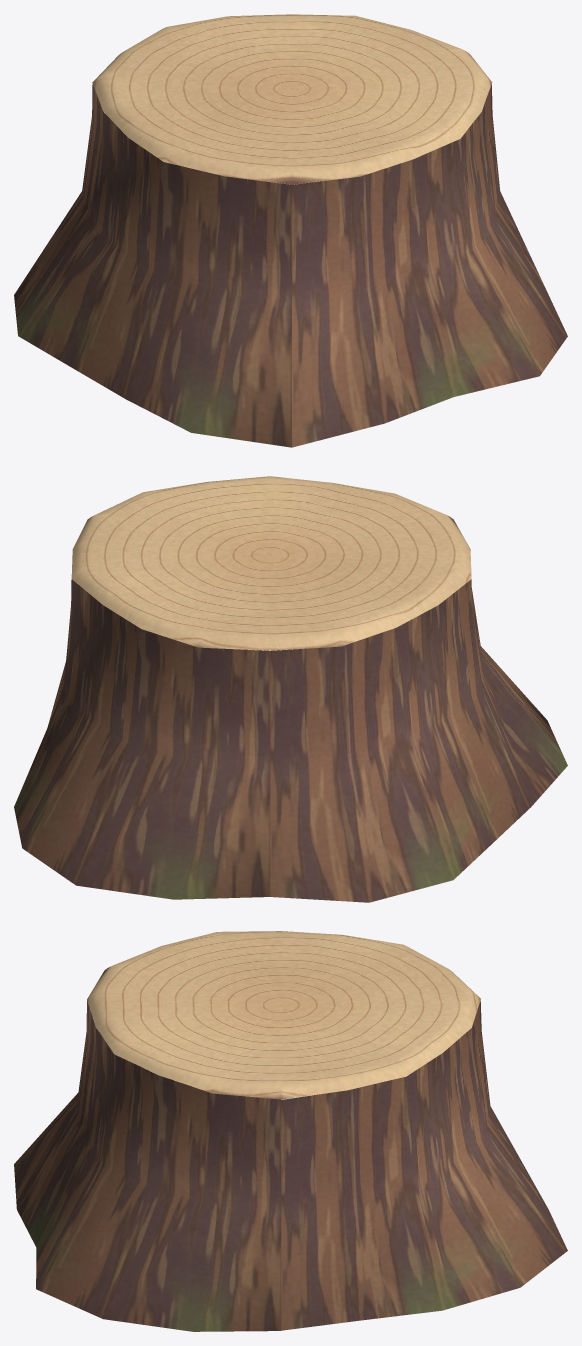
The model's file is stump_lod.gltf.
3 renders of one model, top to bottom at view 1: azimuth 30°, elevation 25°; view 2: azimuth 150°, elevation 25°; view 3: azimuth 270°, elevation 25°, orthographic. The views are drawn at different scales.
Parts seen in each view (by area): view 1: stump_mesh; view 2: stump_mesh; view 3: stump_mesh.
Boxes of the visible parts, left/top/right/bottom form: stump_mesh: left=14, top=14, right=567, bottom=447; stump_mesh: left=14, top=476, right=567, bottom=902; stump_mesh: left=14, top=931, right=567, bottom=1331.
Size of the model in its own units: 0.7487 by 0.37 by 0.8283.
1 material, 1 textured.
